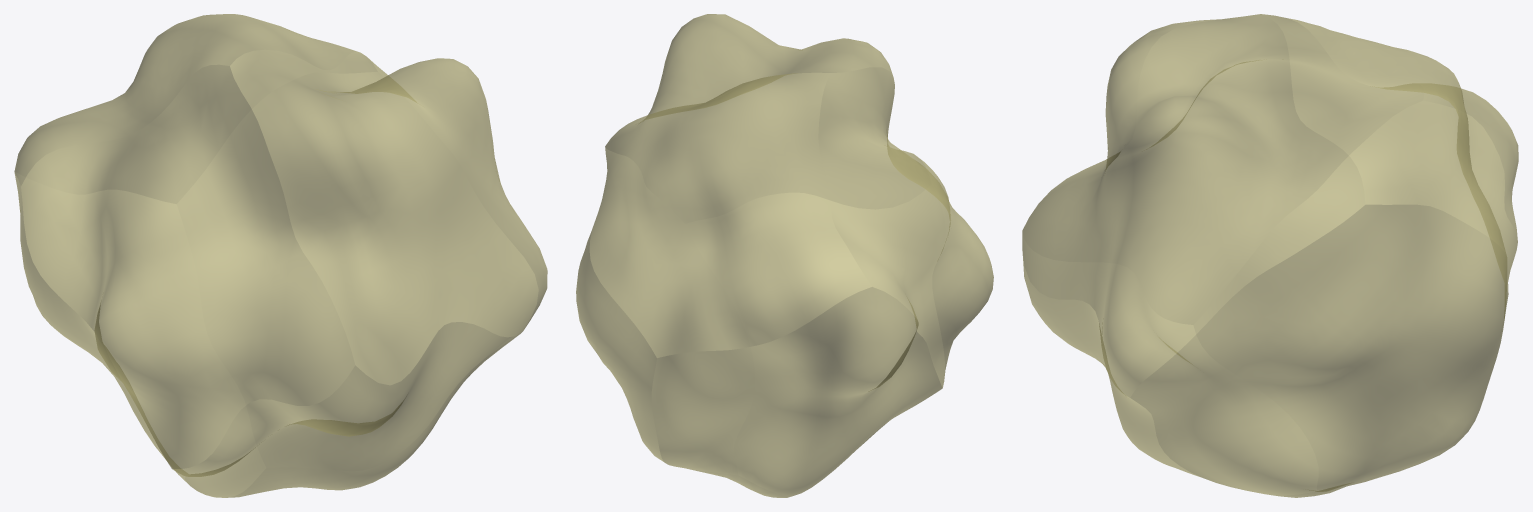
The model's file is Food_or_Poison.fbx.
The picture shows the model from 3 angles, left to right: view 1: azimuth 30°, elevation 25°; view 2: azimuth 150°, elevation 25°; view 3: azimuth 270°, elevation 25°; orthographic projection. The views are drawn at different scales.
Parts seen in each view (by area): view 1: pCube1; view 2: pCube1; view 3: pCube1.
Part boxes in pixels (bbox=[...]): pCube1: bbox=[14, 14, 547, 497]; pCube1: bbox=[576, 14, 993, 497]; pCube1: bbox=[1022, 14, 1518, 497].
Size of the model in its own units: 5.4 by 5.81 by 5.69.
